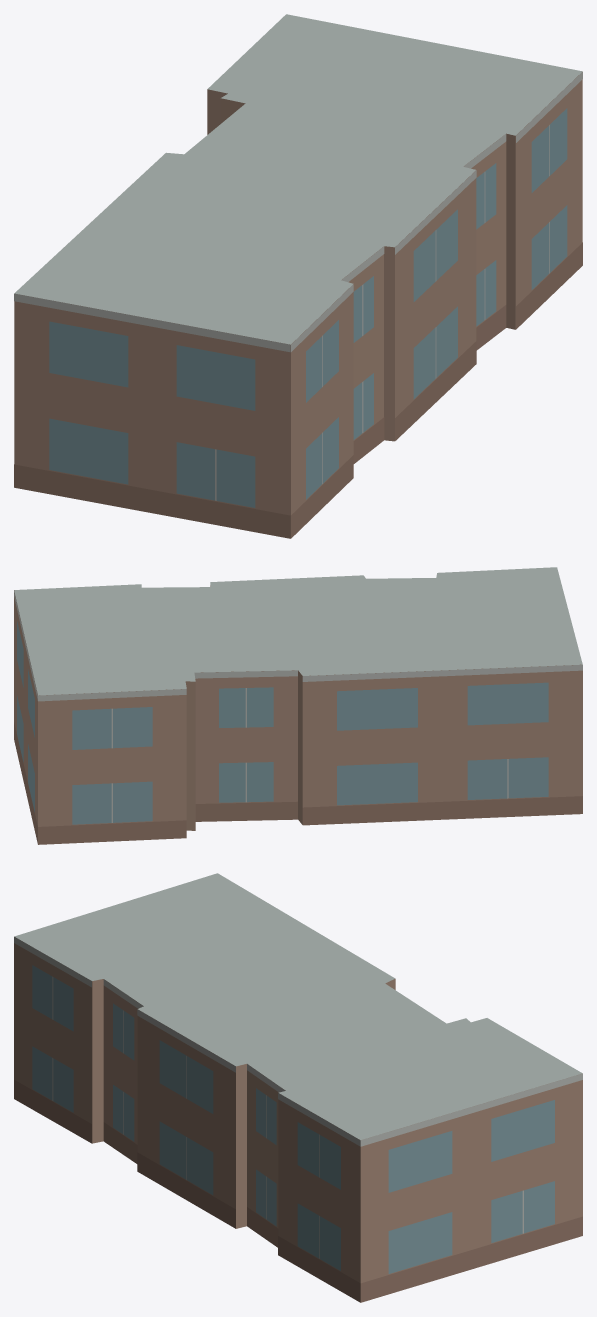
The model's file is survey-upis-32900710.glb.
The picture shows the model from 3 angles, top to bottom: view 1: azimuth 30°, elevation 25°; view 2: azimuth 150°, elevation 25°; view 3: azimuth 270°, elevation 25°; orthographic projection. The views are drawn at different scales.
Parts seen in each view (by area): view 1: survey-upis-32900710.tmp; view 2: survey-upis-32900710.tmp; view 3: survey-upis-32900710.tmp.
Boxes of the visible parts, x1,y1,x2,y2 form: survey-upis-32900710.tmp: (14, 14, 582, 538); survey-upis-32900710.tmp: (14, 567, 582, 844); survey-upis-32900710.tmp: (14, 873, 582, 1302).
Bounding box in the file's own units: 21.52 × 6.1 × 19.36.
